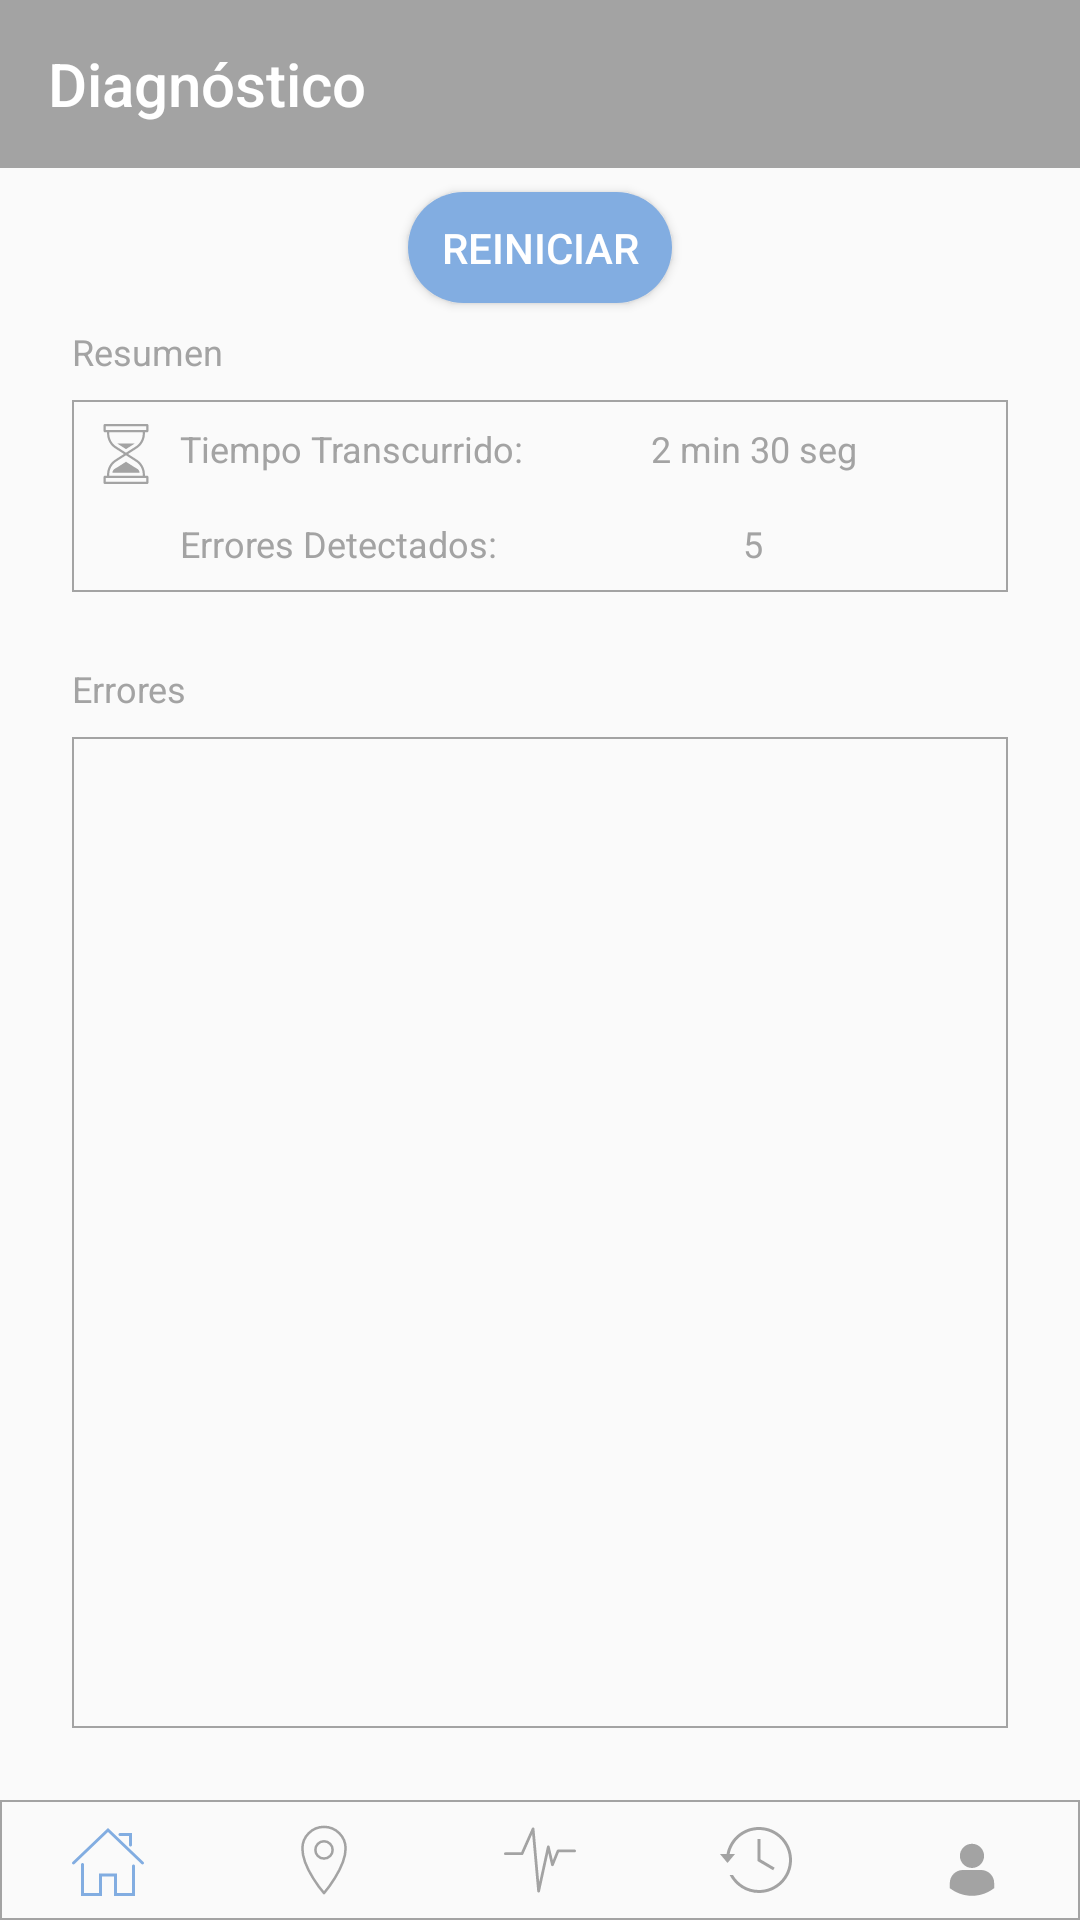

Screen size 1080px x 1920px. Icon name, then its box in pixels as {"x1": x1, "y1": y1, "x2": x2, "y2": y2}:
Este botón da acceso al apartado de diagnóstico: {"x1": 504, "y1": 1827, "x2": 576, "y2": 1893}
Este botón da acceso al apartado de historial: {"x1": 720, "y1": 1827, "x2": 792, "y2": 1893}
Este botón da acceso al apartado de localización: {"x1": 301, "y1": 1825, "x2": 347, "y2": 1894}
Este botón da acceso al apartado de perfil de usuario: {"x1": 950, "y1": 1844, "x2": 994, "y2": 1896}
Este botón da acceso al apartado home: {"x1": 72, "y1": 1828, "x2": 144, "y2": 1896}
hourglass: {"x1": 103, "y1": 424, "x2": 149, "y2": 484}
